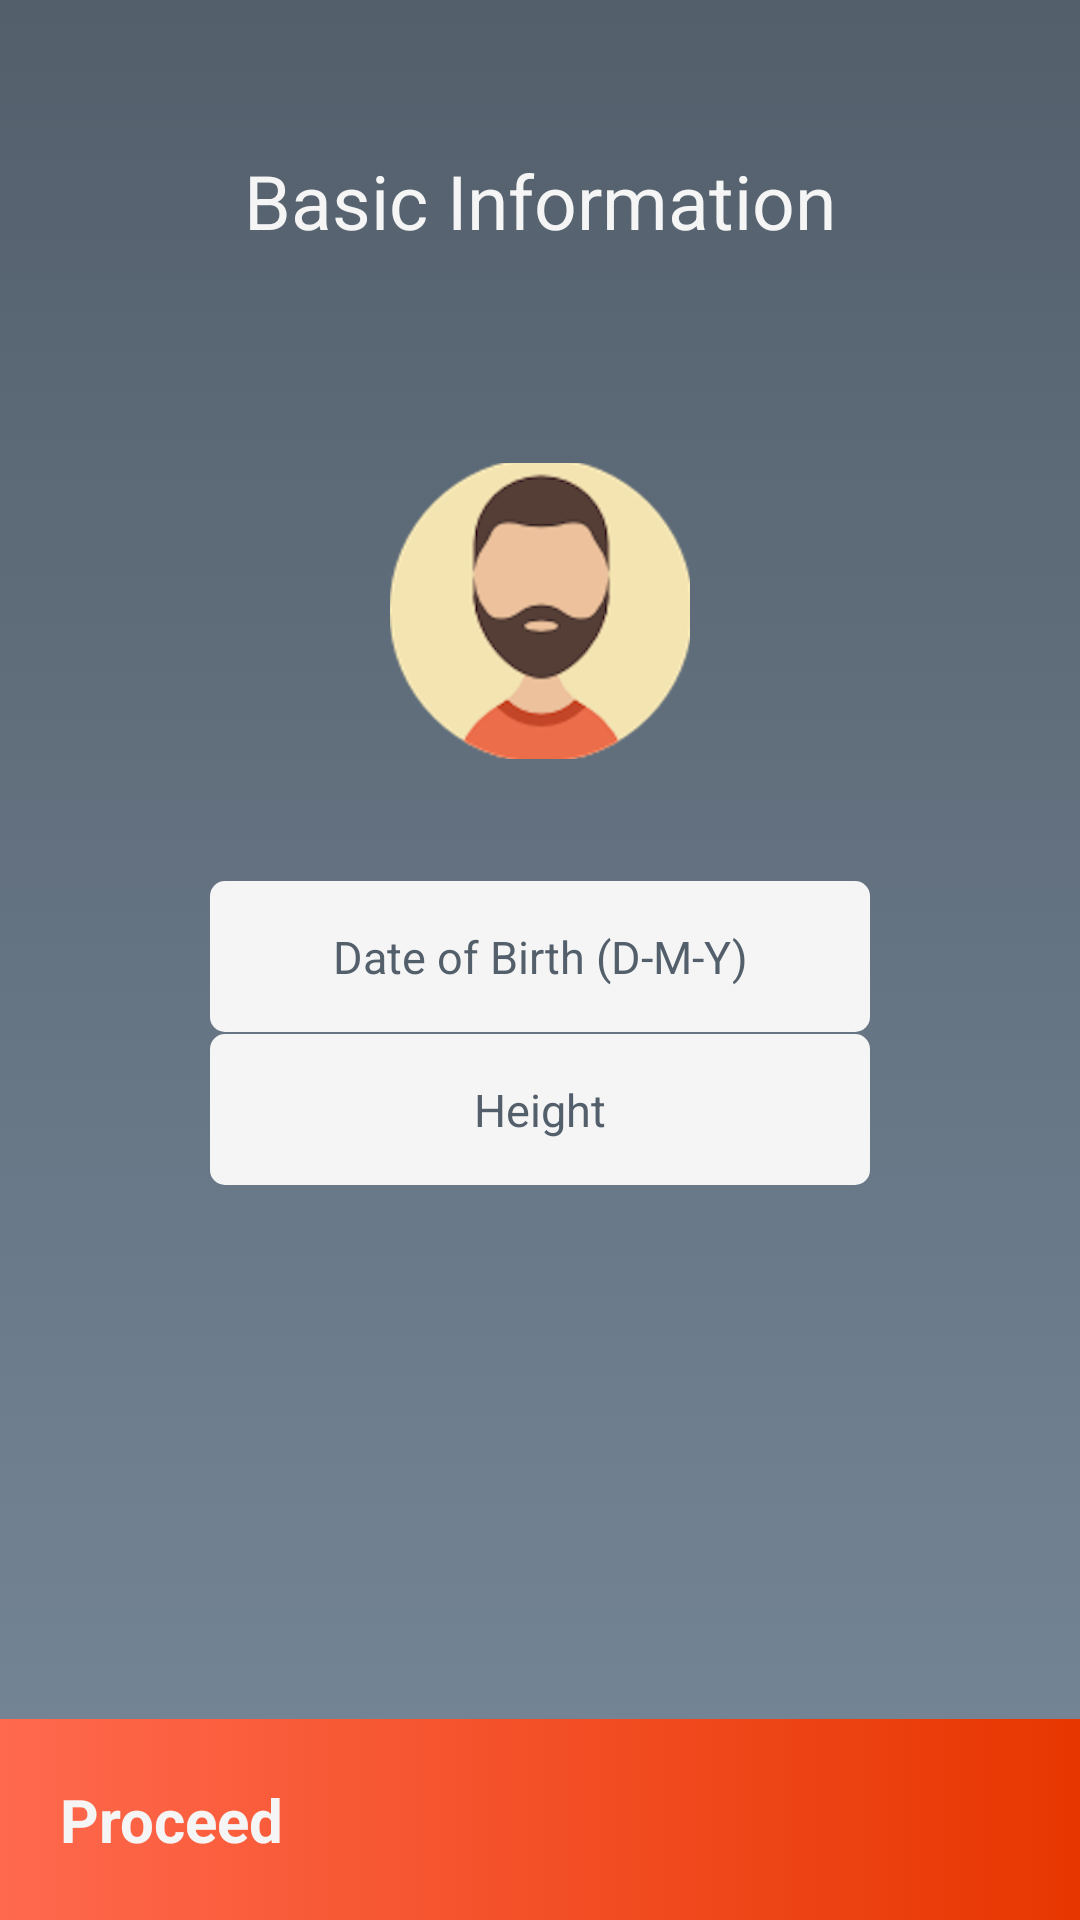

Named icons in this screenshot (1080*1920) and their centers, point (x, y):
user male: point (540, 611)
